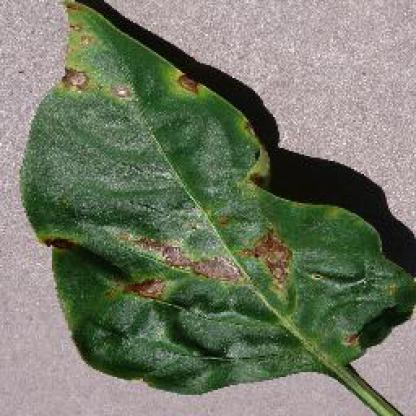bad leaf: (23, 0, 414, 413)
